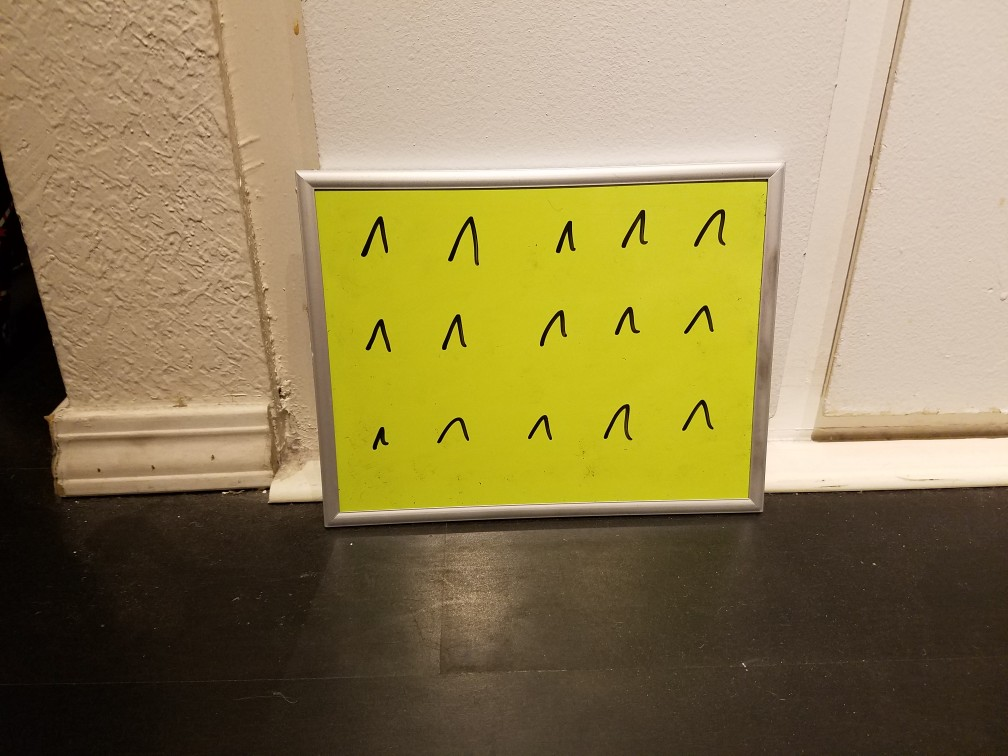^: (599, 392, 646, 464), (438, 210, 493, 268), (610, 201, 663, 254), (354, 210, 397, 271), (687, 201, 733, 257), (675, 393, 722, 444), (432, 407, 476, 456), (530, 301, 571, 352), (435, 310, 477, 359), (542, 217, 585, 260), (680, 298, 722, 342), (359, 311, 395, 358), (518, 404, 557, 446), (365, 415, 398, 458), (611, 299, 641, 340)
